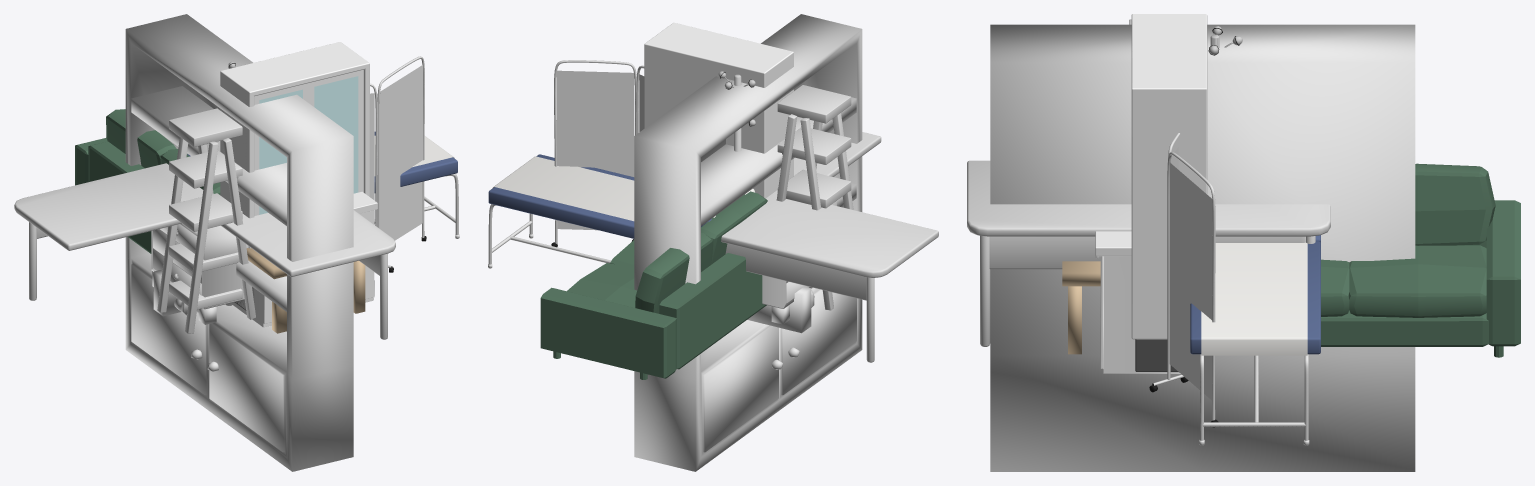
Rendered from Furniture_Large.fbx.
3 views of the same model, side by side, from view 1: azimuth 30°, elevation 25°; view 2: azimuth 150°, elevation 25°; view 3: azimuth 270°, elevation 25° (orthographic). The views are drawn at different scales.
Parts seen in each view (by area): view 1: Curpboard, DesktopClinic, GlasDoorCabinet, Shelves, PrivacyScreen, Sofa, Drawer, Stretcher, SmallTable, Sink, Wardrobe; view 2: Curpboard, Sofa, DesktopClinic, GlasDoorCabinet, PrivacyScreen, Stretcher, Shelves, Wardrobe, Drawer, RackCoat; view 3: Curpboard, Sofa, GlasDoorCabinet, DesktopClinic, Stretcher, PrivacyScreen, Sink, SmallTable.
Part boxes in pixels (x1=…): Curpboard: x1=125, y1=14, x2=353, y2=471; DesktopClinic: x1=14, y1=163, x2=395, y2=339; GlasDoorCabinet: x1=220, y1=42, x2=369, y2=310; Shelves: x1=157, y1=108, x2=255, y2=333; PrivacyScreen: x1=370, y1=56, x2=426, y2=272; Sofa: x1=75, y1=109, x2=220, y2=253; Drawer: x1=151, y1=223, x2=248, y2=324; Stretcher: x1=187, y1=131, x2=459, y2=238; SmallTable: x1=246, y1=248, x2=365, y2=333; Sink: x1=230, y1=191, x2=377, y2=327; Wardrobe: x1=153, y1=270, x2=232, y2=316; Curpboard: x1=634, y1=14, x2=862, y2=471; Sofa: x1=540, y1=191, x2=767, y2=379; DesktopClinic: x1=721, y1=132, x2=938, y2=362; GlasDoorCabinet: x1=644, y1=22, x2=793, y2=198; PrivacyScreen: x1=551, y1=60, x2=644, y2=247; Stretcher: x1=488, y1=154, x2=754, y2=268; Shelves: x1=776, y1=85, x2=853, y2=310; Wardrobe: x1=747, y1=286, x2=814, y2=333; Drawer: x1=762, y1=201, x2=836, y2=324; RackCoat: x1=718, y1=71, x2=755, y2=151; Curpboard: x1=990, y1=24, x2=1415, y2=471; Sofa: x1=1321, y1=163, x2=1520, y2=357; GlasDoorCabinet: x1=1131, y1=14, x2=1207, y2=371; DesktopClinic: x1=967, y1=160, x2=1330, y2=346; Stretcher: x1=1190, y1=235, x2=1320, y2=445; PrivacyScreen: x1=1149, y1=133, x2=1218, y2=427; Sink: x1=1095, y1=231, x2=1180, y2=373; SmallTable: x1=1062, y1=261, x2=1100, y2=354.
Bounding box in the file's own units: 3.46 × 2.77 × 3.25.
